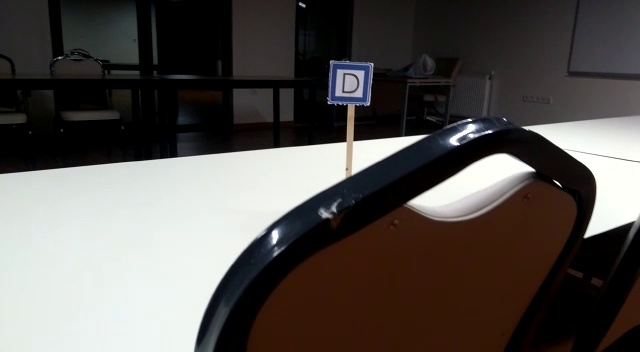durak: (328, 61, 372, 105)
